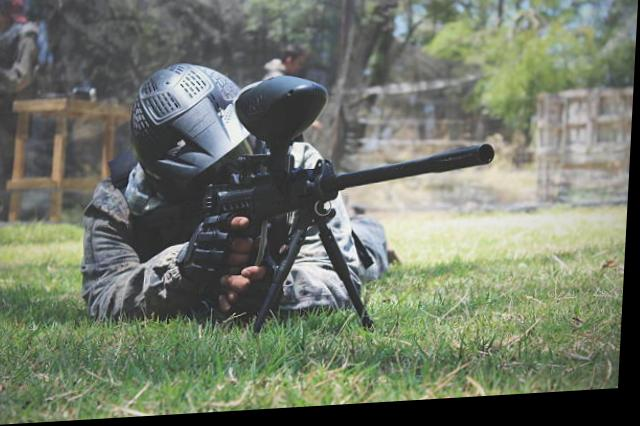other: (83, 58, 380, 320), (0, 0, 56, 95)
